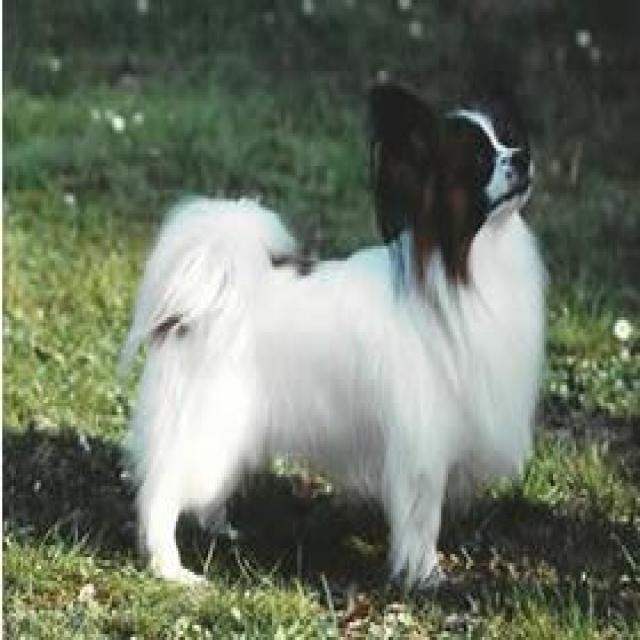papillon: (112, 71, 560, 596)
